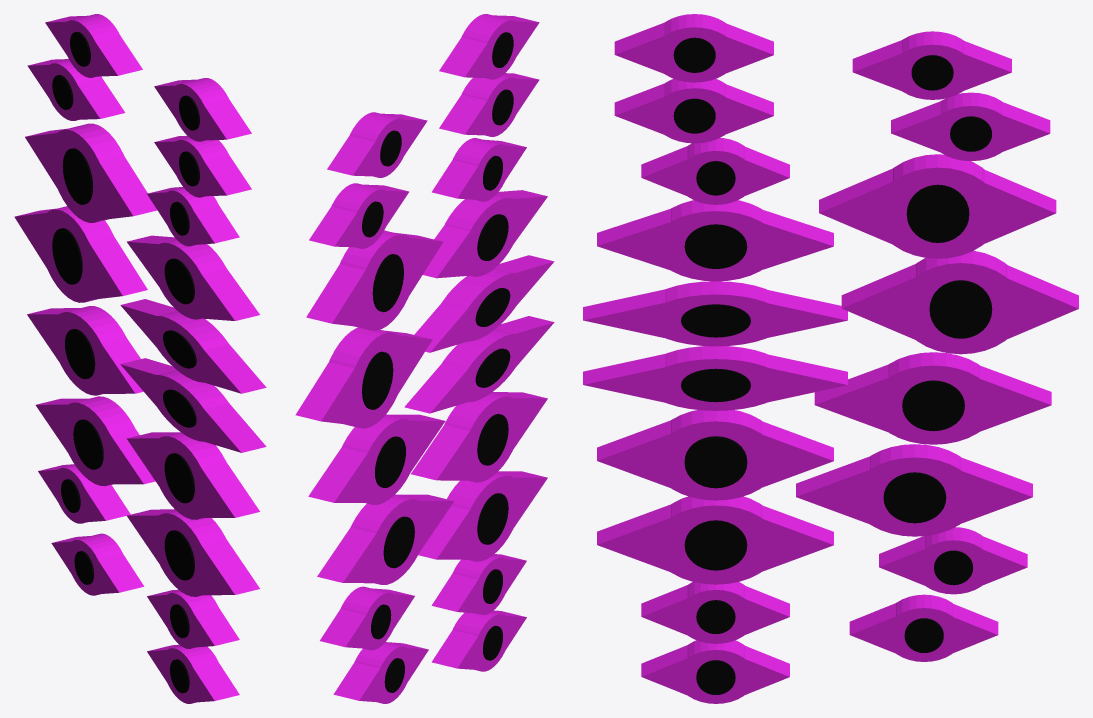
File: predictibilidad.fbx
The picture shows the model from 3 angles, left to right: view 1: azimuth 30°, elevation 25°; view 2: azimuth 150°, elevation 25°; view 3: azimuth 270°, elevation 25°; orthographic projection. The views are drawn at different scales.
Parts seen in each view (by area): view 1: Cylinder.045; view 2: Cylinder.045; view 3: Cylinder.045.
Part boxes in pixels (x1,y1,x2,y2): Cylinder.045: (14,14,266,703); Cylinder.045: (295,14,554,703); Cylinder.045: (583,14,1078,703).
Size of the model in its own units: 68.87 by 1291 by 857.
